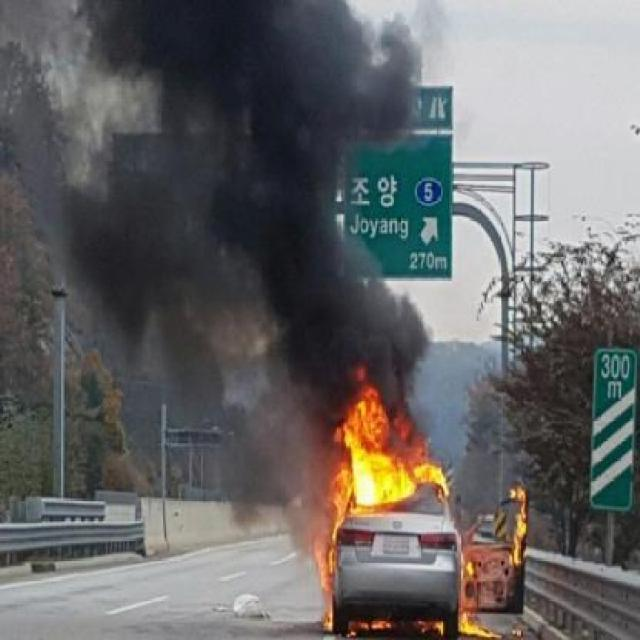Fire: (320, 398, 480, 634)
Smoke: (46, 0, 413, 388)
